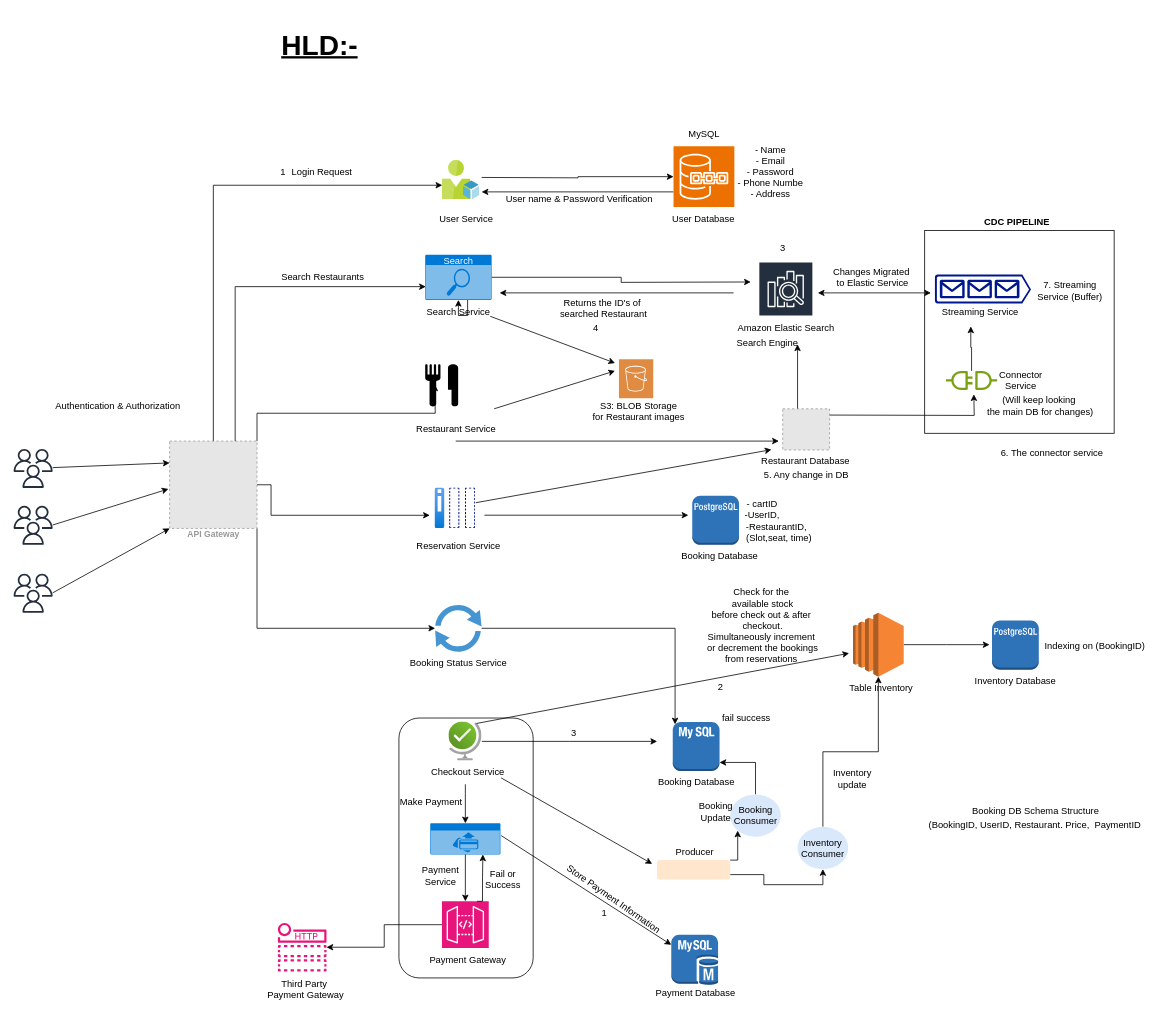
This 1167x1018 diagram has some shape labels left out. Grey dashed boxes stand in for pictures. Here are the shapes that lost their labels. From the top down, the centre of each, then its label:
At point 465,838: "Payment".
At point 693,869: "KAFKA".
